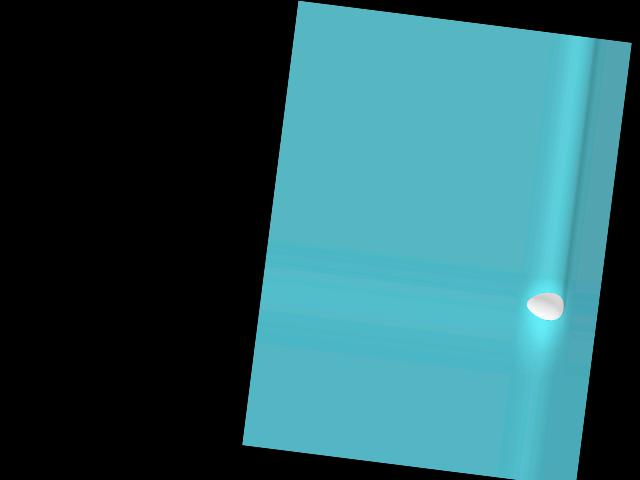egg: (525, 289, 566, 321)
